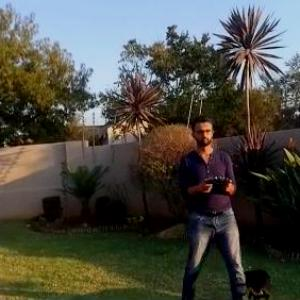follow: (175, 106, 249, 299)
null: (230, 263, 275, 299)
